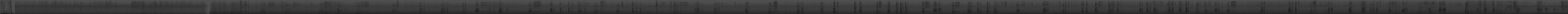Moan: (768, 0, 771, 14), (1260, 0, 1263, 14)
